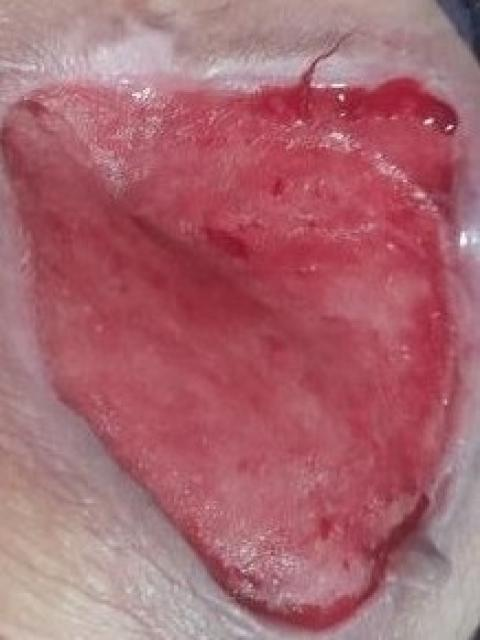wound: (4, 54, 476, 634)
